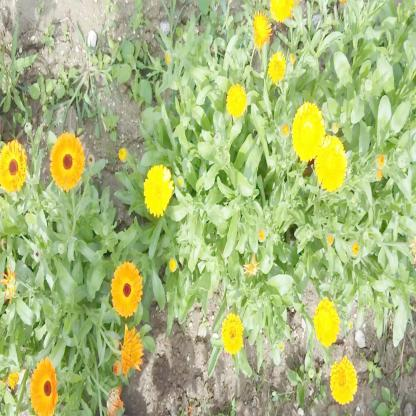marigold: (50, 133, 82, 188), (295, 101, 323, 160), (316, 138, 346, 191), (110, 264, 140, 316), (31, 356, 57, 414), (144, 164, 173, 214), (1, 140, 26, 192), (331, 358, 359, 404), (315, 297, 340, 345), (221, 313, 243, 355), (117, 331, 139, 367), (252, 11, 274, 44), (226, 84, 246, 117), (269, 0, 294, 24), (267, 53, 286, 84)
